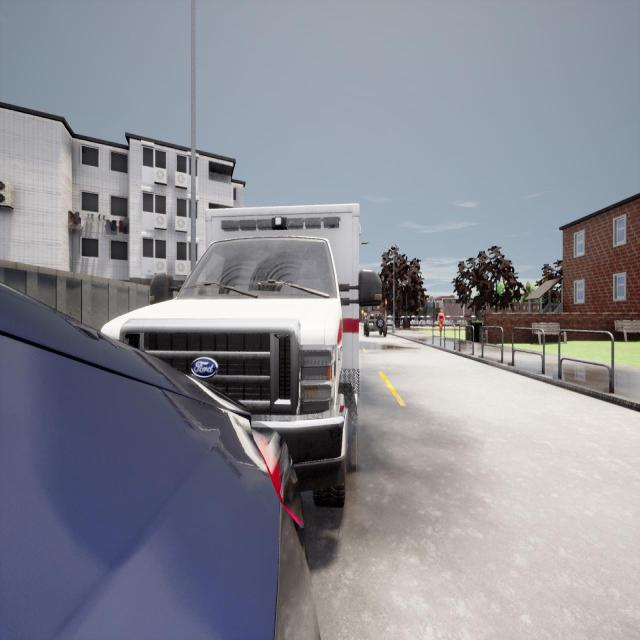Pedestrian: (436, 308, 446, 340)
Vehicle: (0, 283, 360, 638), (88, 200, 386, 522), (363, 309, 388, 340)
traffic_light: (384, 296, 388, 310)
